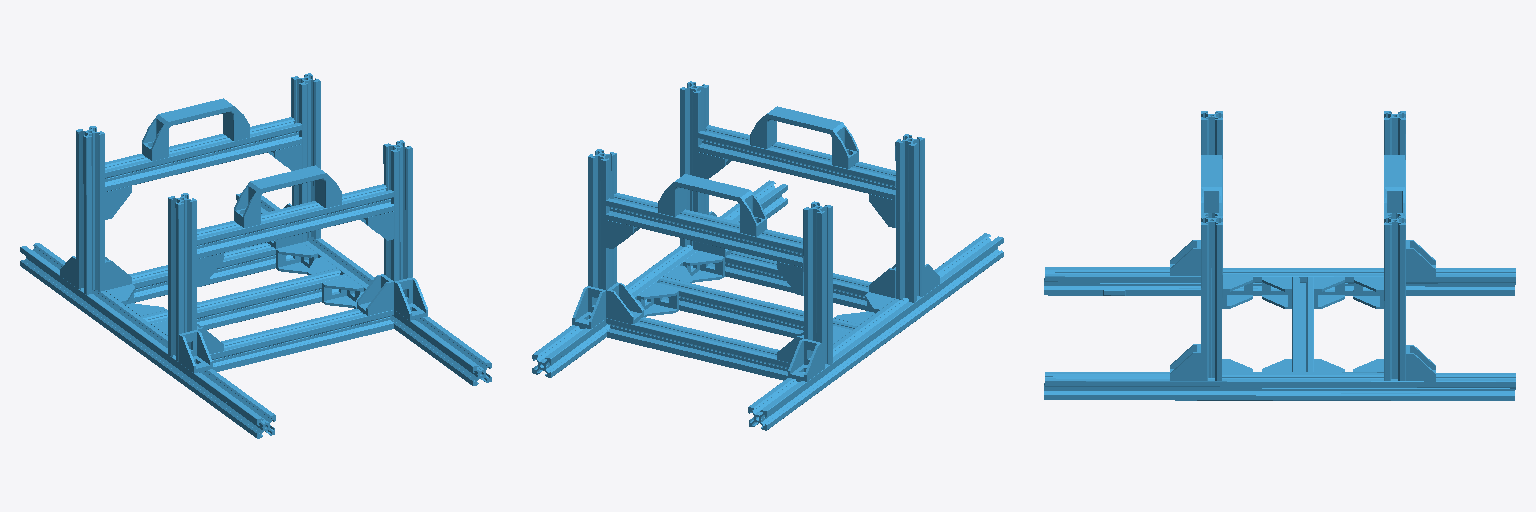
URDF robot description (platform):
<?xml version="1.0"?>
<robot name="platform">

<link name="world"/>

<joint name="platform_joint" type="fixed">
    <parent link="world"/>
    <origin rpy="3.14 0 0" xyz="0.0 0.0 0.02"/>
    <child link="platform_link"/>
</joint>

<link name="platform_link">
  <collision>
    <origin xyz="0 0 0.0" rpy="0 0 0"/>
    <geometry>
      <mesh filename="package://multimap_map_merge/meshes/no_ramp.stl" scale="0.0018 0.0018 0.0018"/>
    </geometry>
  </collision>

  <visual>
    <origin xyz="0 0 0.0" rpy="0 0 0"/>
    <geometry>
     <mesh filename="package://multimap_map_merge/meshes/no_ramp.stl" scale="0.0018 0.0018 0.0018"/>
    </geometry>
  </visual>

  <inertial>
    <origin xyz="0 0 0.0" rpy="0 0 0" />
    <mass value="1" />
    <inertia
      ixx="0.001" ixy="0.0"  ixz="0.0"
      iyy="0.001" iyz="0.0"
      izz="0.001" />
  </inertial>
  </link>

<gazebo reference="platform_link">
  <!-- <material>Gazebo/Yellow</material> -->
      <static>true</static>
    <turnGravityOff>true</turnGravityOff>
    <mu1>5</mu1>
    <mu2>5</mu2>
</gazebo>

</robot>

--- Facts derived from the render (not from the file) ---
The picture shows the robot from 3 angles, left to right: view 1: azimuth 30°, elevation 25°; view 2: azimuth 150°, elevation 25°; view 3: azimuth 270°, elevation 25°; orthographic projection.
Robot: platform — 2 links, 1 joints (1 fixed); root link world; default pose: all joints at 0.
Links seen in each view (by area): view 1: platform_link; view 2: platform_link; view 3: platform_link.
Link boxes in pixels (box(x1,y1,x2,y2)): platform_link: box(20, 73, 491, 438); platform_link: box(532, 81, 1003, 430); platform_link: box(1044, 111, 1515, 400).
Bounding box of the posed robot: 0.45 × 0.7867 × 0.3248 m (x, y, z).
Meshes: 1 distinct files referenced, 1 mesh visuals loaded (1 binary STL).